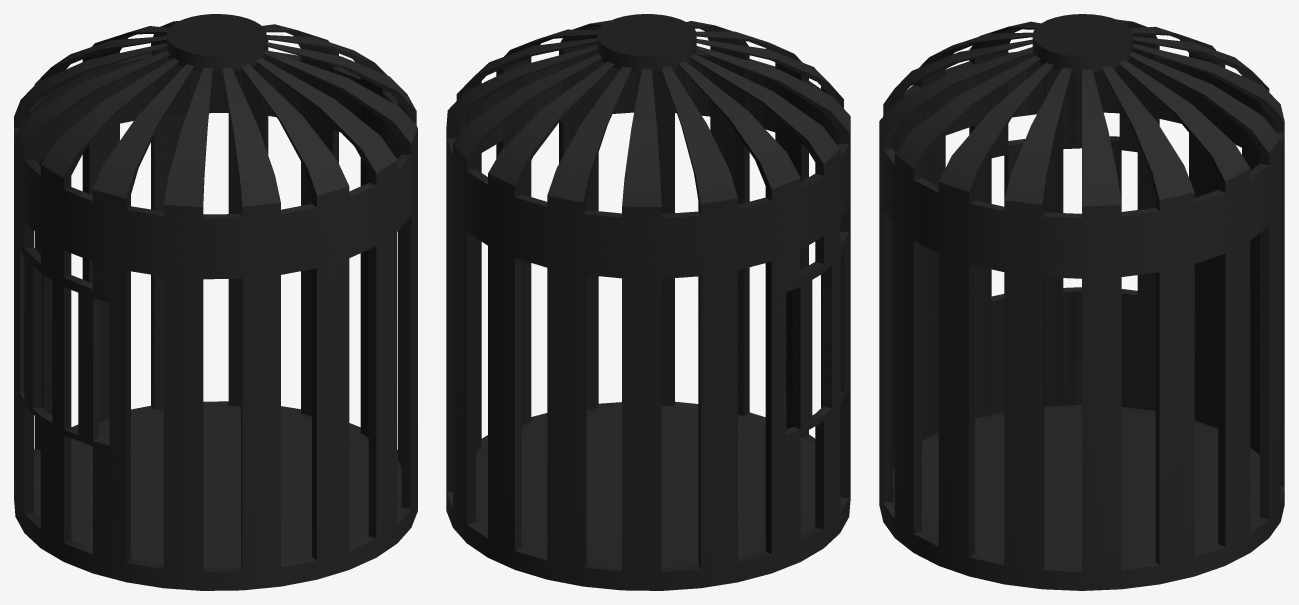
Rendered from Cage.fbx.
3 renders of one model, left to right at view 1: azimuth 30°, elevation 25°; view 2: azimuth 150°, elevation 25°; view 3: azimuth 270°, elevation 25°, orthographic.
Parts seen in each view (by area): view 1: Cage_Cylinder.003; view 2: Cage_Cylinder.003; view 3: Cage_Cylinder.003.
Part boxes in pixels (x1,y1,x2,y2): Cage_Cylinder.003: (14, 14, 417, 590); Cage_Cylinder.003: (446, 14, 850, 590); Cage_Cylinder.003: (879, 14, 1284, 590).
Bounding box in the file's own units: 64.2 × 82.29 × 64.2.
